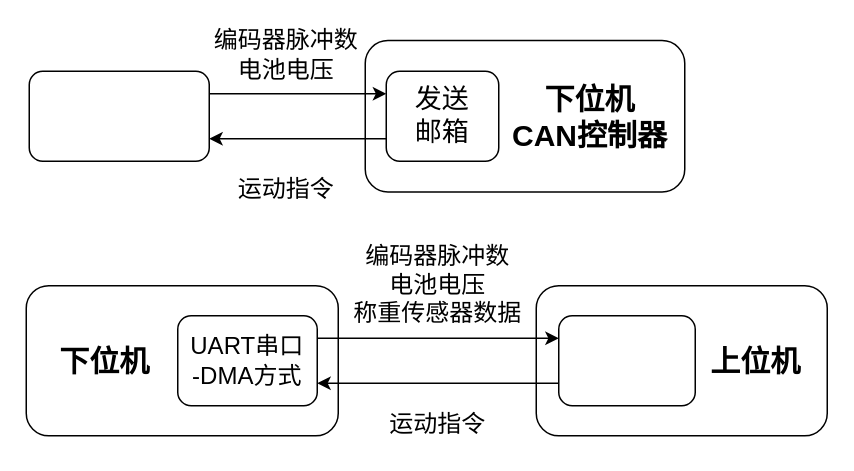
The diagram is 854 pixels wide and 471 high, and some of its shapes have lost their labels. The centre of each missing label's shape, as x and y in pixels:
"底盘驱动器" goes at [118,115].
"通信节点" goes at [626,360].
